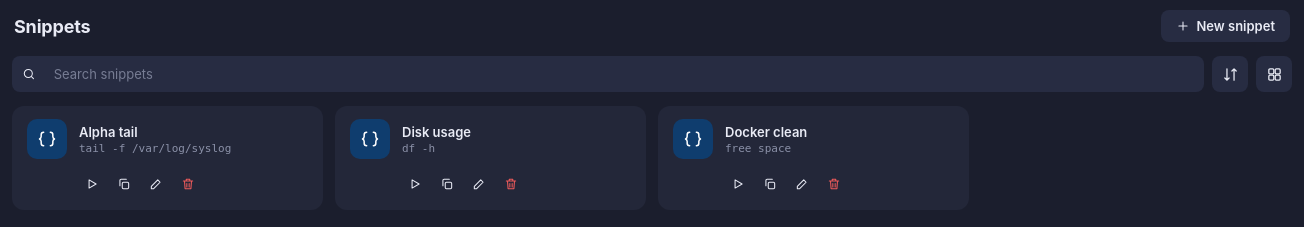
Test: SnippetsPage: filter, sort and view › searches the name, the description and the script
The image size is (1304, 227).
In the field labelled "Search snippets": x=618, y=74 [42, 55, 1194, 93], type "syslog"
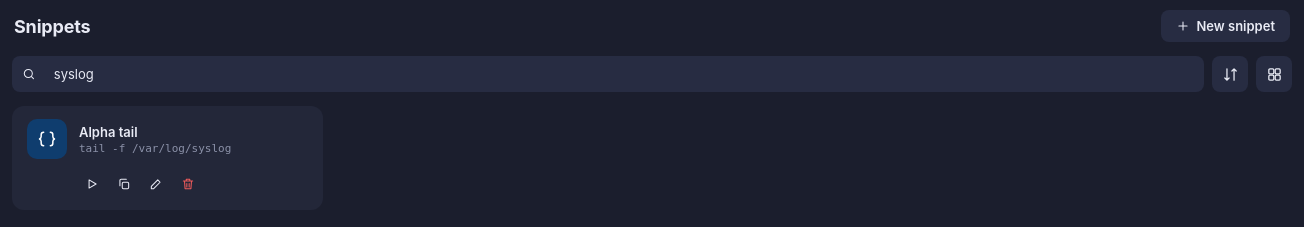
Replace the text in the field named "Search snippets" with "free space": x=618, y=74 [42, 55, 1194, 93]
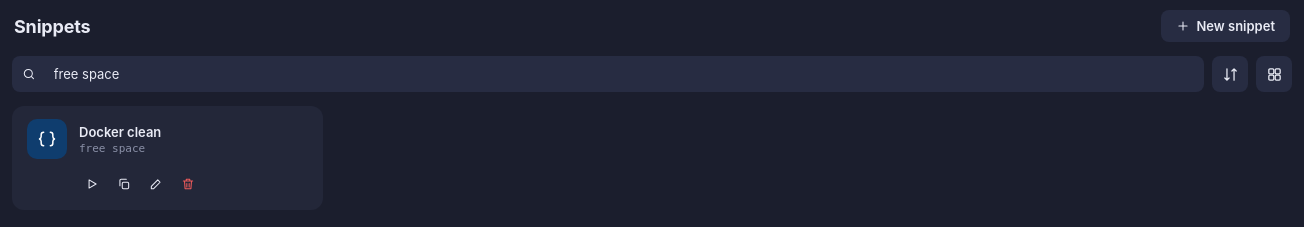
Replace the text in the field named "Search snippets" with "nothing like this": x=618, y=74 [42, 55, 1194, 93]
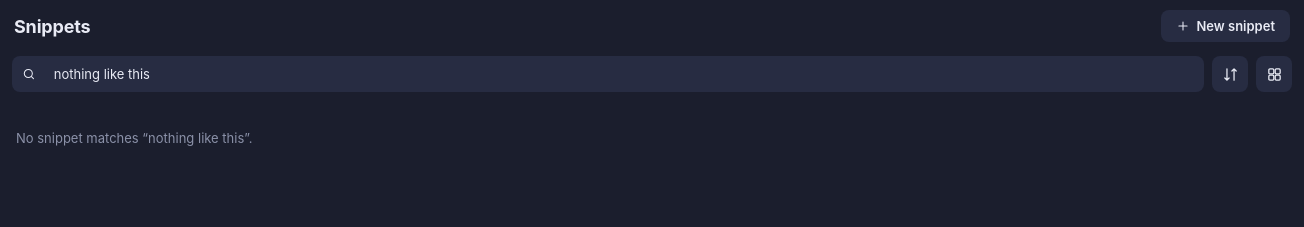
Check: the text "No snippet matches “nothing like this”." is shown, box [16, 130, 252, 146]
